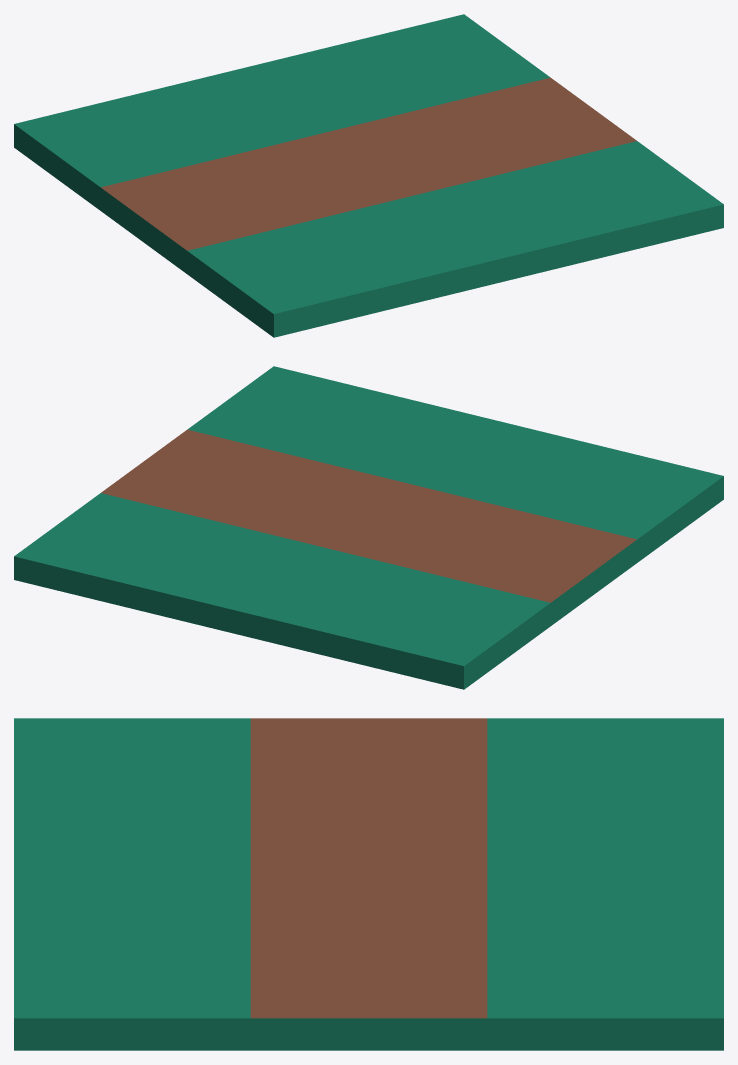
Rendered from grass-gerade.fbx.
3 views of the same model, one above another, from view 1: azimuth 30°, elevation 25°; view 2: azimuth 150°, elevation 25°; view 3: azimuth 270°, elevation 25° (orthographic). The views are drawn at different scales.
Visible parts, largest first — view 1: grass-gerade; view 2: grass-gerade; view 3: grass-gerade.
Boxes of the visible parts, x1,y1,x2,y2 form: grass-gerade: (14,14,723,337); grass-gerade: (14,366,723,689); grass-gerade: (14,718,723,1050).
Bounding box in the file's own units: 400 × 400 × 20.
